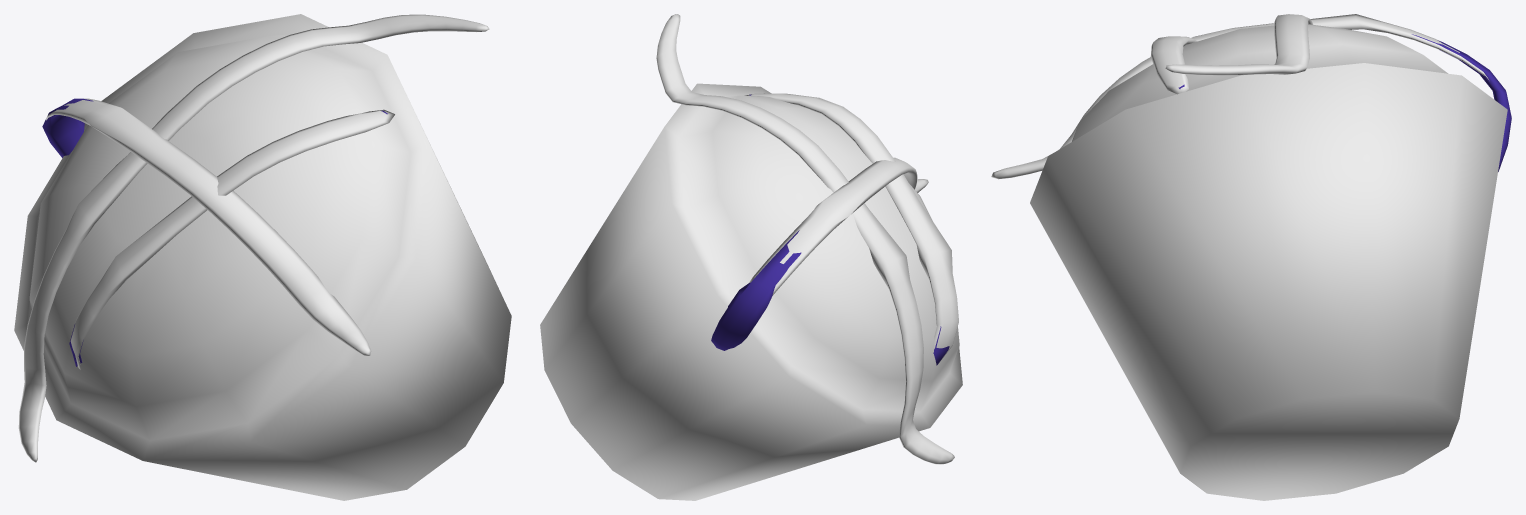
File: babeczka.glb
The picture shows the model from 3 angles, left to right: view 1: azimuth 30°, elevation 25°; view 2: azimuth 150°, elevation 25°; view 3: azimuth 270°, elevation 25°; orthographic projection. The views are drawn at different scales.
Visible parts, largest first — view 1: babeczka; view 2: babeczka; view 3: babeczka.
Boxes of the visible parts, x1=… form: babeczka: x1=14, y1=14, x2=511, y2=500; babeczka: x1=540, y1=14, x2=962, y2=500; babeczka: x1=991, y1=14, x2=1511, y2=500.
Bounding box in the file's own units: 0.5056 × 0.5105 × 0.5018.
